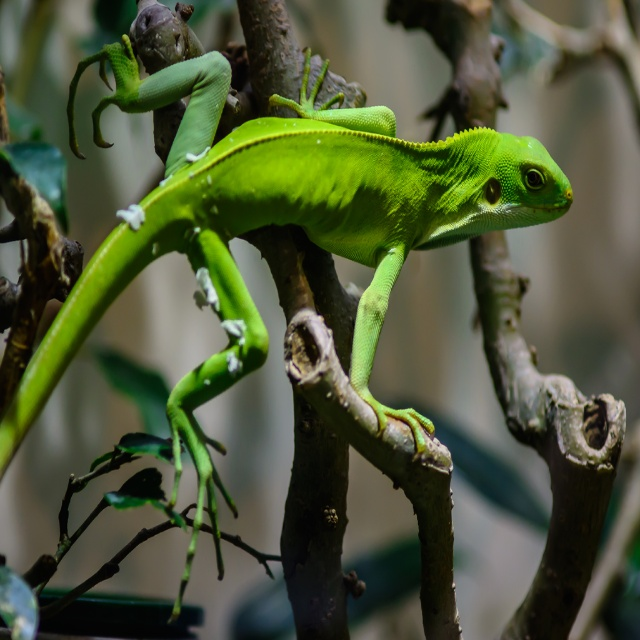Lizard: (0, 34, 573, 626)
